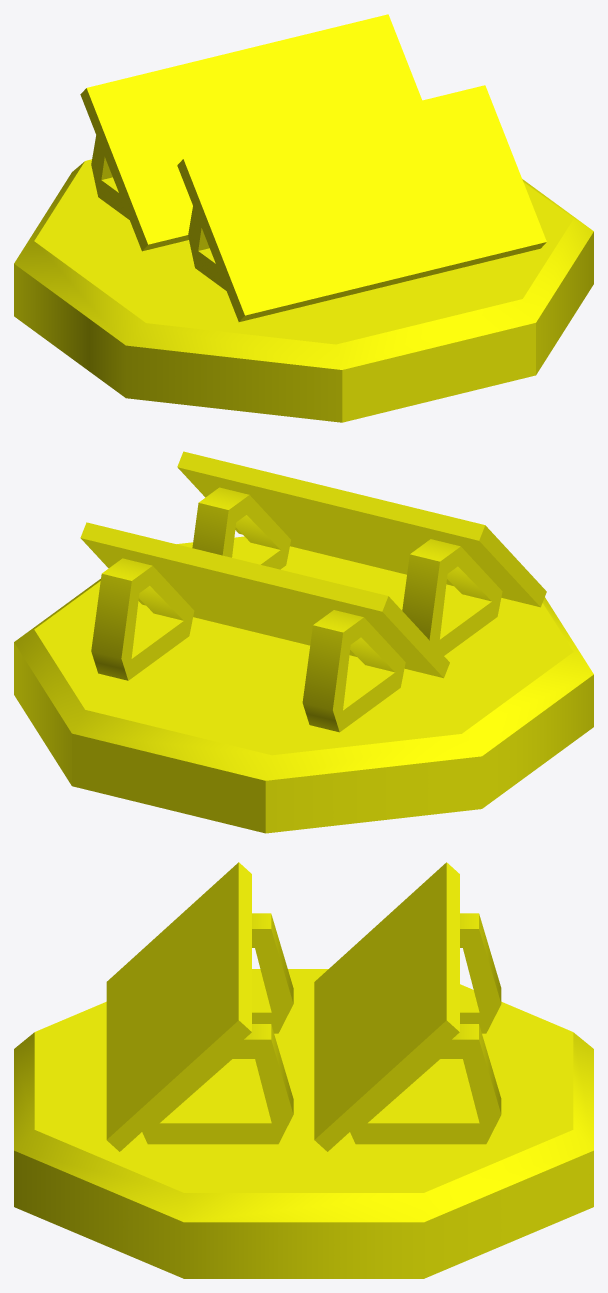
Rendered from kaykit-roofmodule-solarpanels.glb.
The picture shows the model from 3 angles, top to bottom: view 1: azimuth 30°, elevation 25°; view 2: azimuth 150°, elevation 25°; view 3: azimuth 270°, elevation 25°; orthographic projection. The views are drawn at different scales.
Visible parts, largest first — view 1: roofmodule_solarpanels; view 2: roofmodule_solarpanels; view 3: roofmodule_solarpanels.
Part boxes in pixels (left/top/right/bottom): roofmodule_solarpanels: left=14, top=14, right=593, bottom=422; roofmodule_solarpanels: left=14, top=451, right=593, bottom=833; roofmodule_solarpanels: left=14, top=862, right=593, bottom=1278.
Size of the model in its own units: 1.4 by 0.571 by 1.4.
